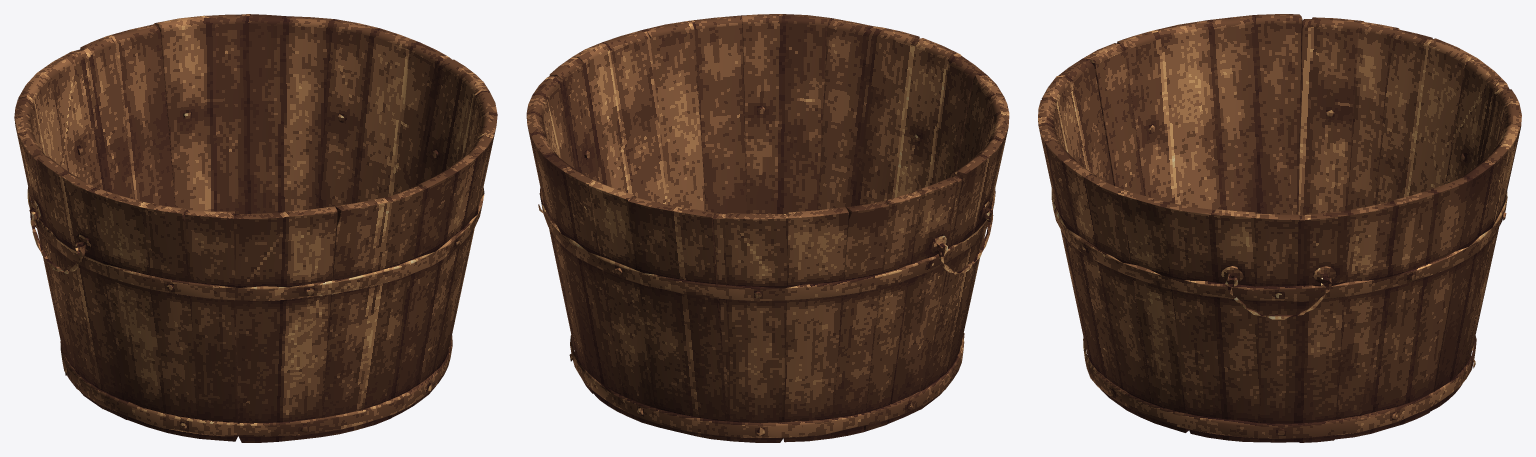
File: wooden_bucket_02.glb
3 renders of one model, left to right at view 1: azimuth 30°, elevation 25°; view 2: azimuth 150°, elevation 25°; view 3: azimuth 270°, elevation 25°, orthographic.
Parts seen in each view (by area): view 1: body; view 2: body; view 3: body.
Part boxes in pixels (x1,y1,x2,y2): body: [14, 14, 497, 442]; body: [526, 14, 1009, 442]; body: [1038, 14, 1521, 442].
Bounding box in the file's own units: 0.6156 × 0.3504 × 0.6164.
1 material, 1 textured.
